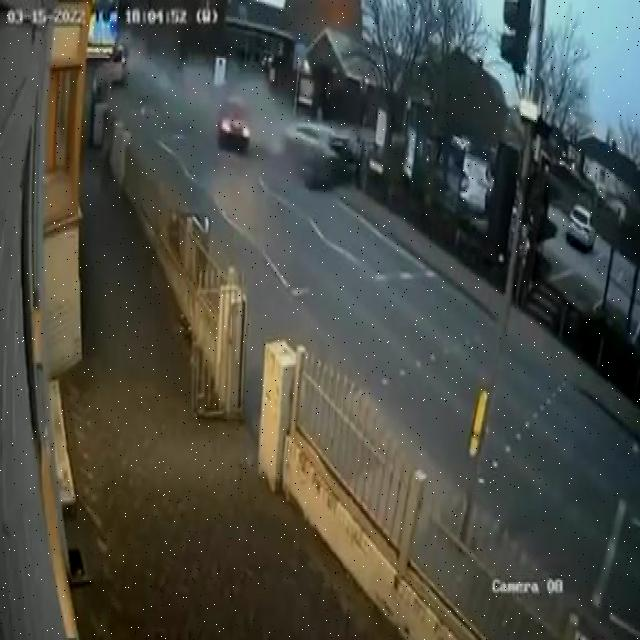accident: (208, 88, 358, 195)
